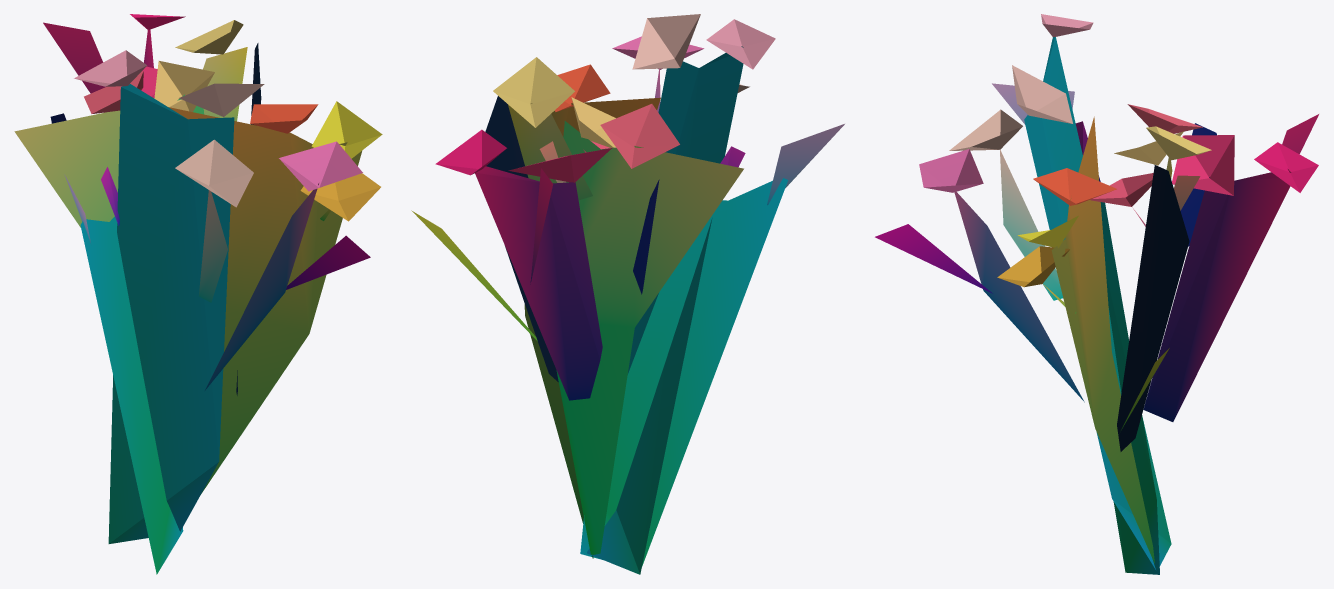
Rendered from Nordic_Coastal_Groundcover_vlqkdeaja_Mid_vlqkdeaja_VarQ_LOD3.fbx.
3 renders of one model, left to right at view 1: azimuth 30°, elevation 25°; view 2: azimuth 150°, elevation 25°; view 3: azimuth 270°, elevation 25°, orthographic. The views are drawn at different scales.
Parts seen in each view (by area): view 1: _ylz5_VarQ_LOD5; view 2: _ylz5_VarQ_LOD5; view 3: _ylz5_VarQ_LOD5.
Boxes of the visible parts, x1,y1,x2,y2 form: _ylz5_VarQ_LOD5: (14,14,382,574); _ylz5_VarQ_LOD5: (411,14,844,574); _ylz5_VarQ_LOD5: (875,14,1318,574).
Bounding box in the file's own units: 27.46 × 39.78 × 30.61.
